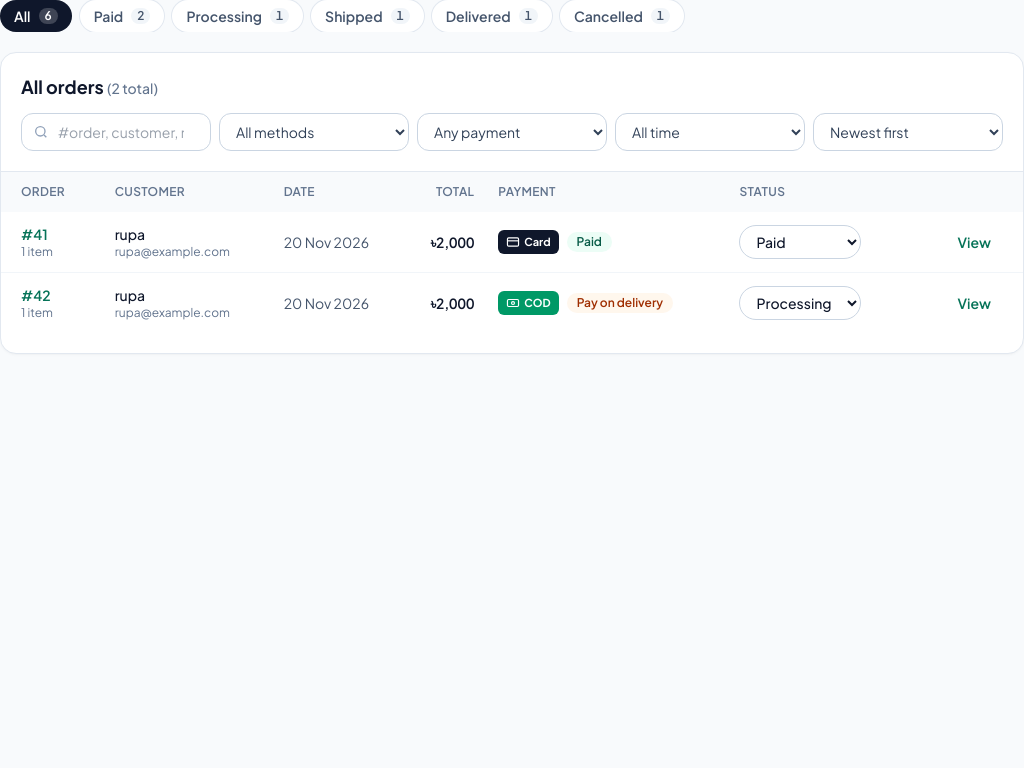
Test: AdminOrdersPage › order drawer: items, address, payments, status change; ?order= in the URL
Step 1. Click the button with aria-label "View order 41" → [974, 242], box [946,228,1003,256]
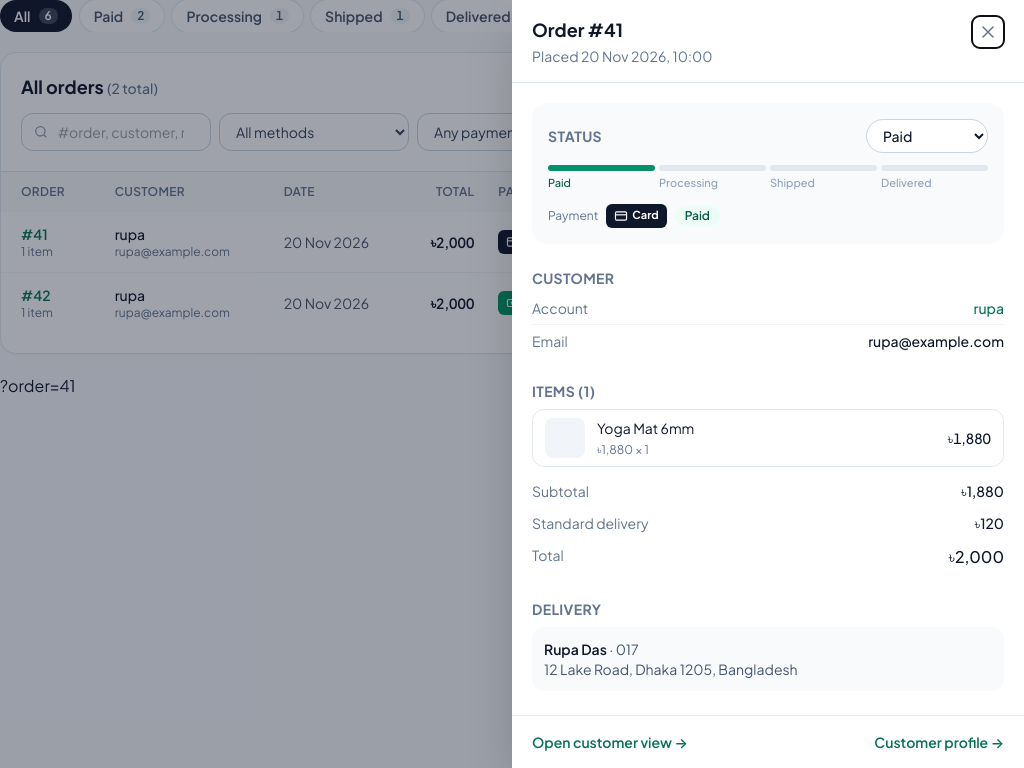
expect the list with test id "drawer-order-items" shows "Yoga Mat 6mm": met, box [597,418,936,438]
expect the element with test id "drawer-order-address" shows "12 Lake Road": met, box [544,660,629,678]
expect the text with test id "where" shows "order=41": met, box [0,375,76,396]
Step 2. Select "Processing" in the dropdown named "Status for order 41" → [927, 136], box [866,119,988,153]
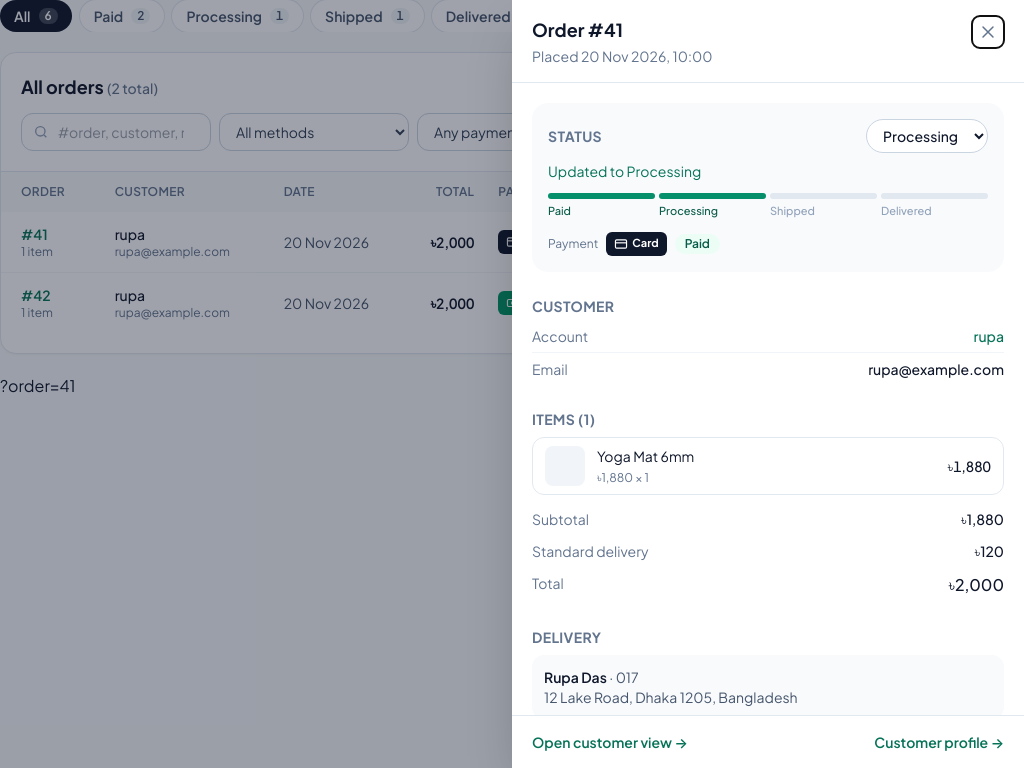
expect the message with test id "drawer-status-message" reads "Updated to Processing": met, box [548,162,701,180]
Step 3. Press Escape
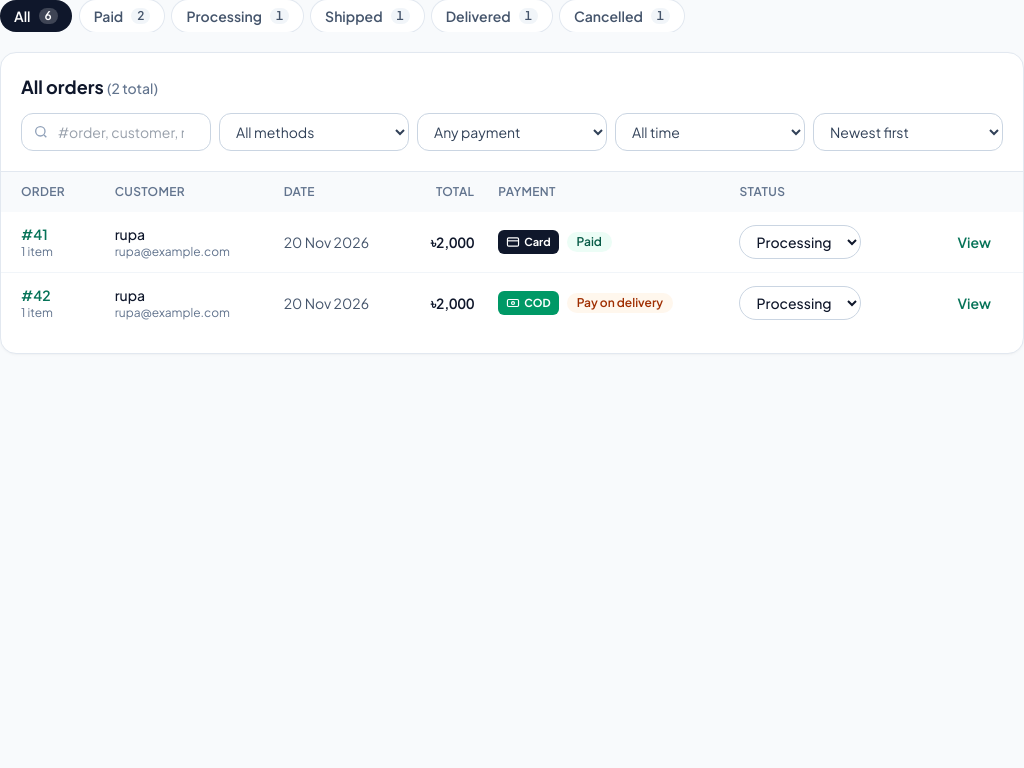
expect the dialog with test id "order-drawer" is gone: met
